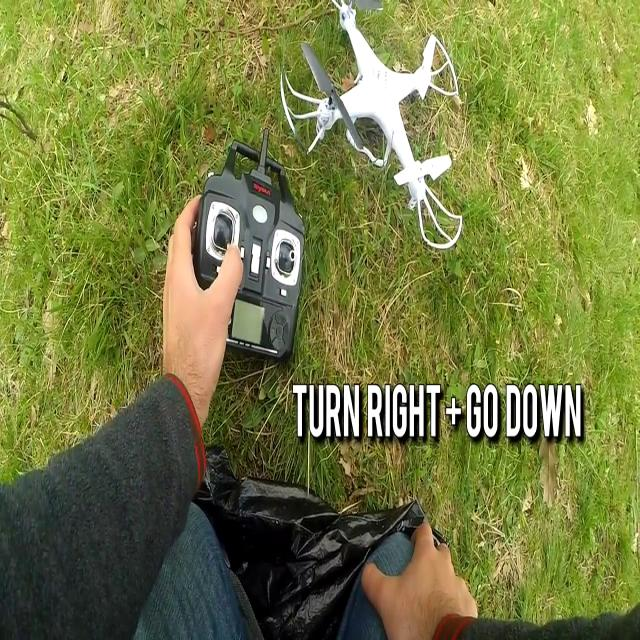drones: (280, 0, 474, 241)
